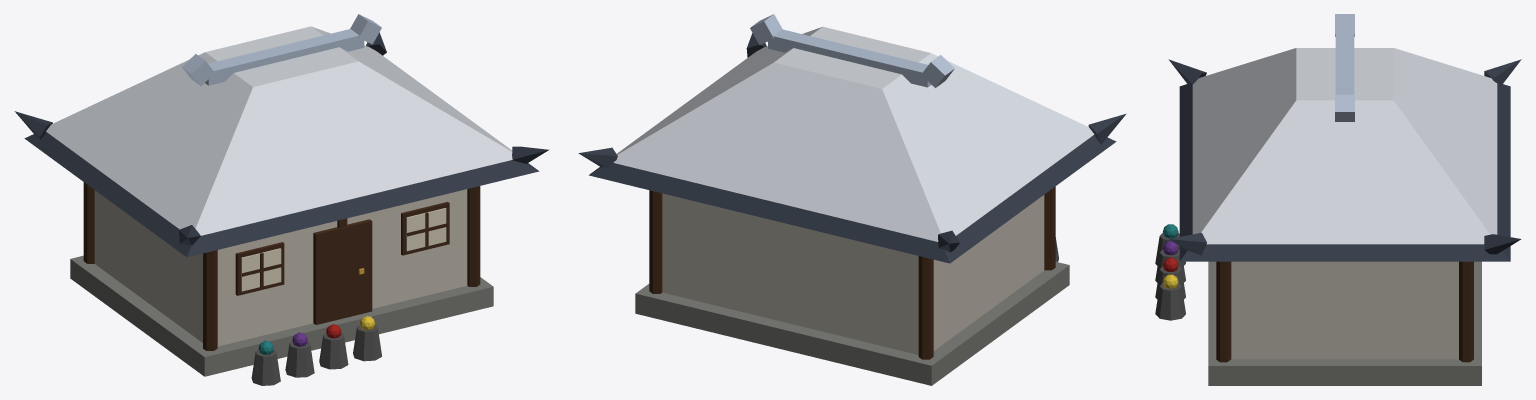
The model's file is SM_GZ_alchemy_frost.fbx.
The picture shows the model from 3 angles, left to right: view 1: azimuth 30°, elevation 25°; view 2: azimuth 150°, elevation 25°; view 3: azimuth 270°, elevation 25°; orthographic projection. The views are drawn at different scales.
Parts seen in each view (by area): view 1: SM_GZ_alchemy_frost; view 2: SM_GZ_alchemy_frost; view 3: SM_GZ_alchemy_frost.
Boxes of the visible parts, left/top/right/bottom form: SM_GZ_alchemy_frost: left=14, top=14, right=549, bottom=385; SM_GZ_alchemy_frost: left=578, top=14, right=1126, bottom=385; SM_GZ_alchemy_frost: left=1155, top=14, right=1521, bottom=385.
Size of the model in its own units: 964 by 649 by 830.
